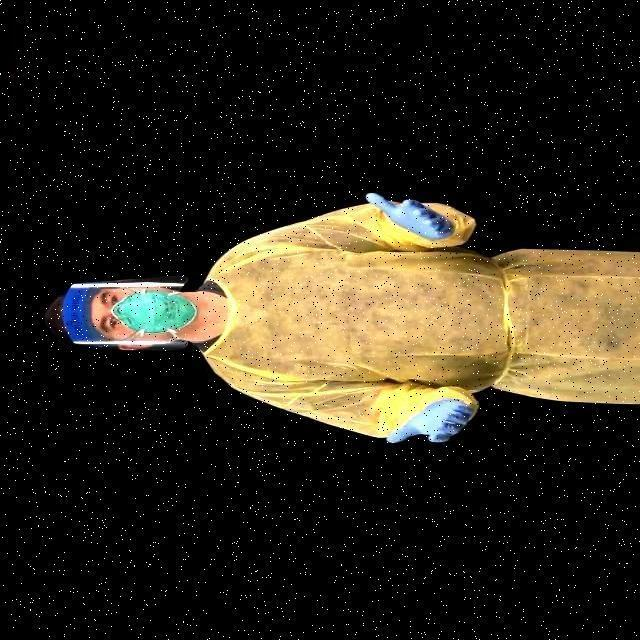apron: (357, 186, 467, 252), (396, 394, 486, 452)
